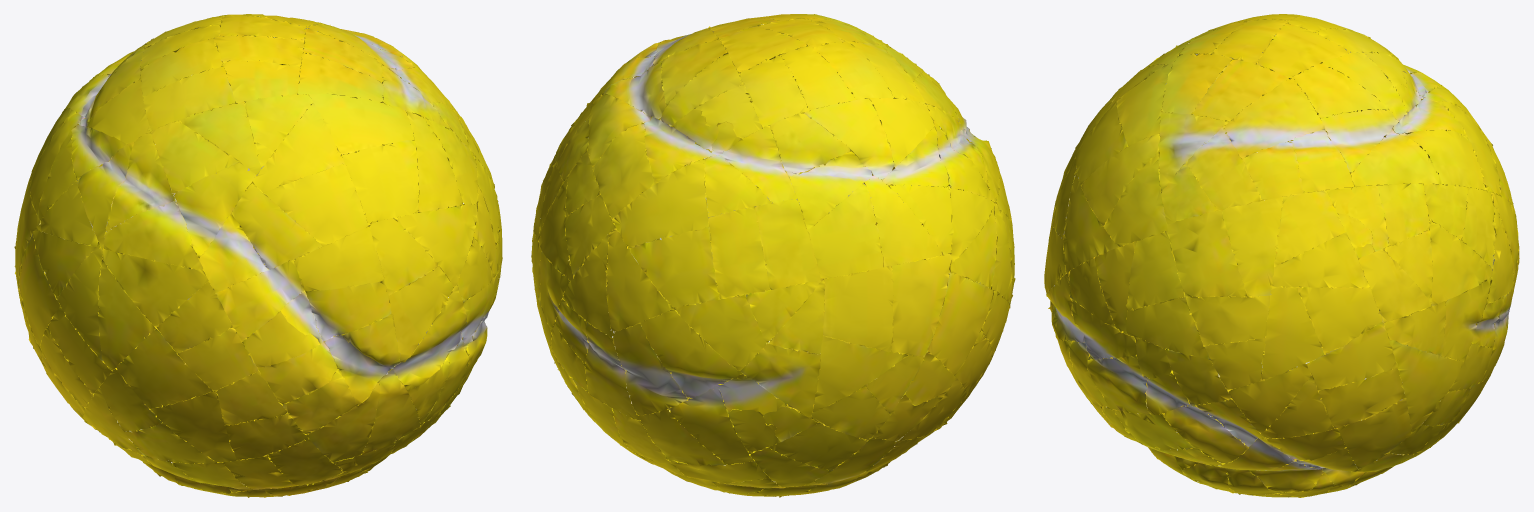
File: ball-tennis.glb
3 views of the same model, side by side, from view 1: azimuth 30°, elevation 25°; view 2: azimuth 150°, elevation 25°; view 3: azimuth 270°, elevation 25° (orthographic). The views are drawn at different scales.
Parts seen in each view (by area): view 1: Mesh_0; view 2: Mesh_0; view 3: Mesh_0.
Part boxes in pixels (left/top/right/bottom): Mesh_0: left=14, top=14, right=502, bottom=497; Mesh_0: left=531, top=14, right=1015, bottom=497; Mesh_0: left=1044, top=14, right=1519, bottom=497.
Size of the model in its own units: 0.0669 by 0.067 by 0.0664.
1 material, 1 textured.
